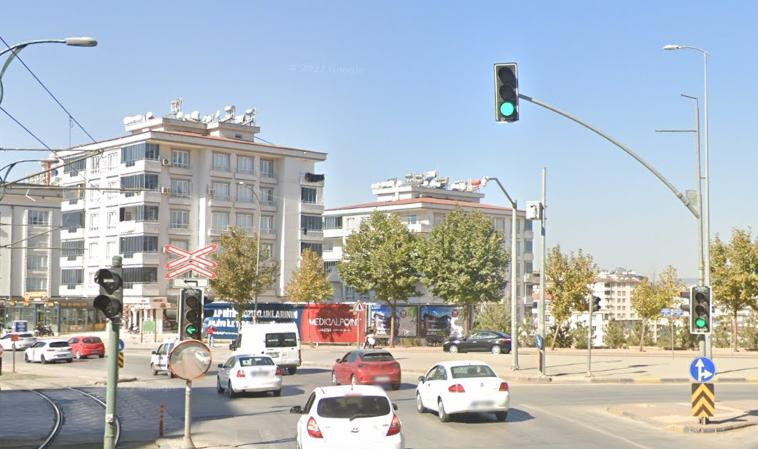greenlight: (493, 62, 518, 124), (183, 287, 203, 339), (690, 286, 709, 333)
